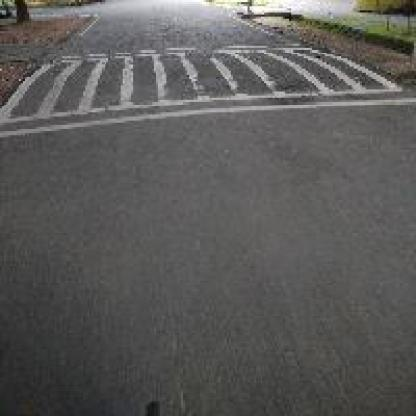Speed Bump: (2, 31, 410, 140)
